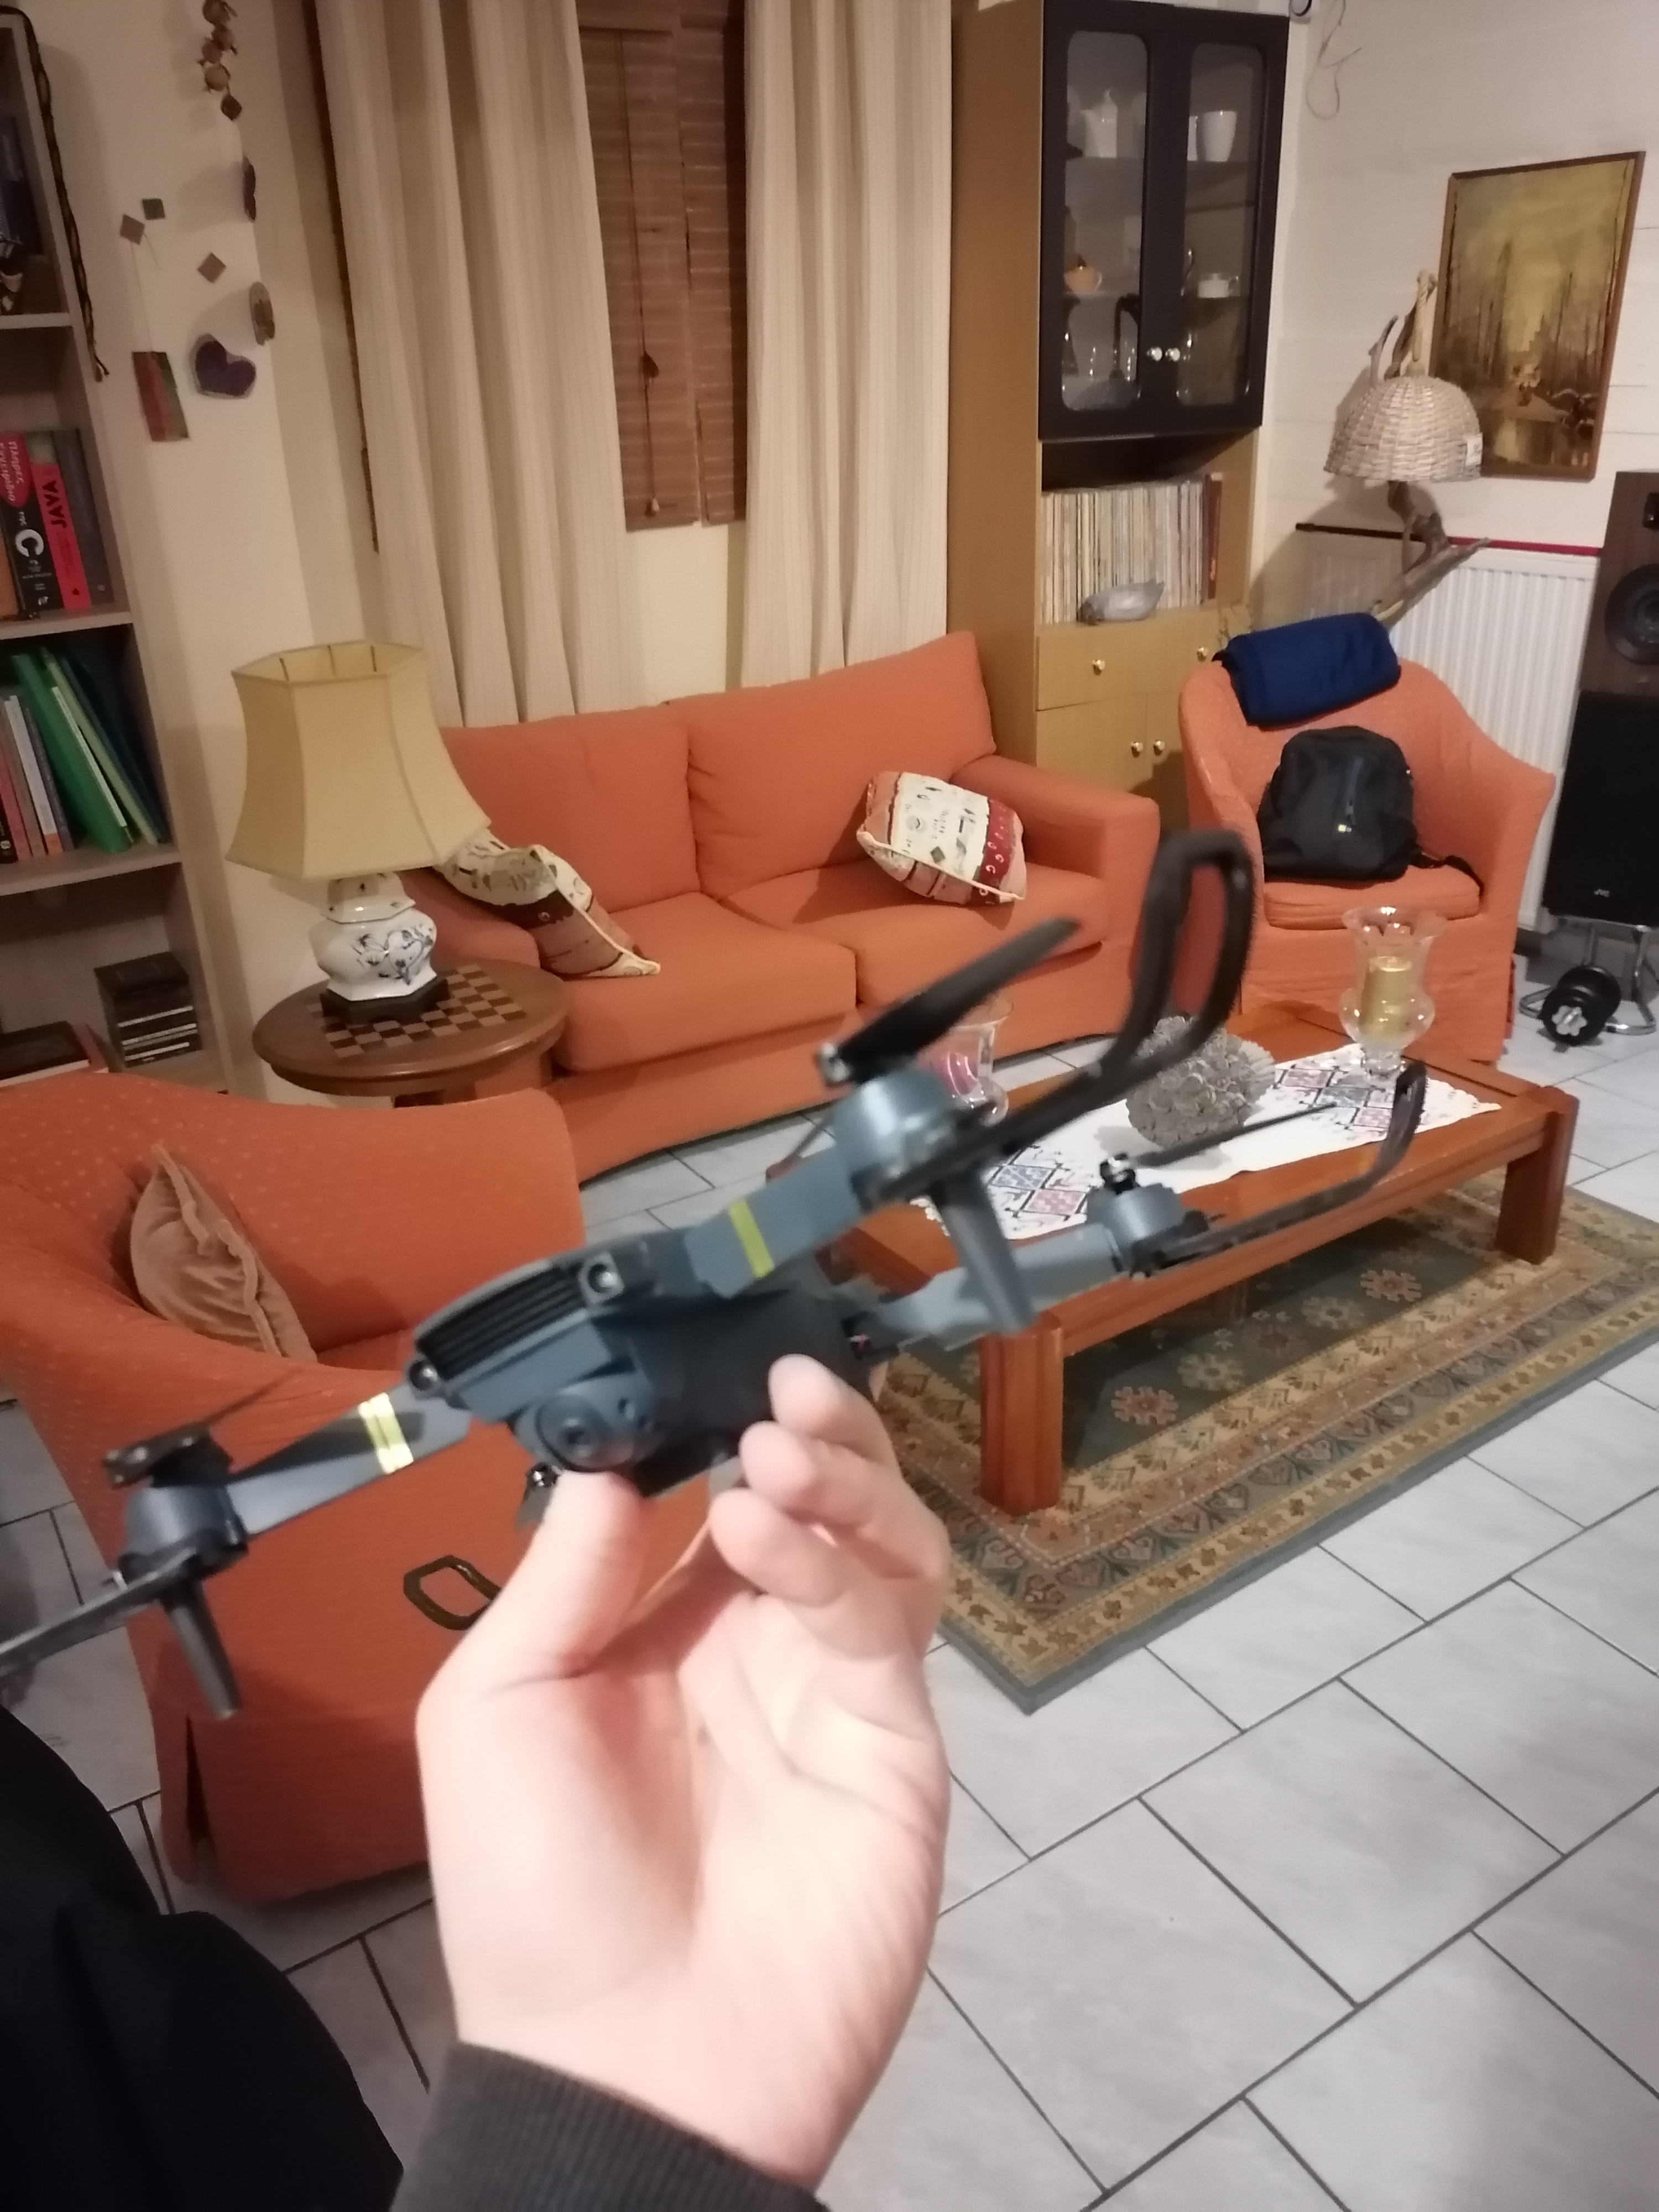drone: (71, 965, 1481, 1731)
